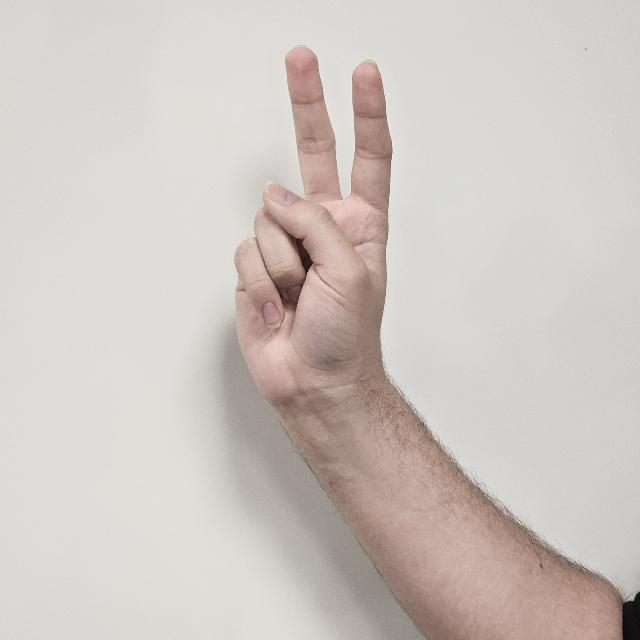Triangulo: (222, 43, 414, 419)
